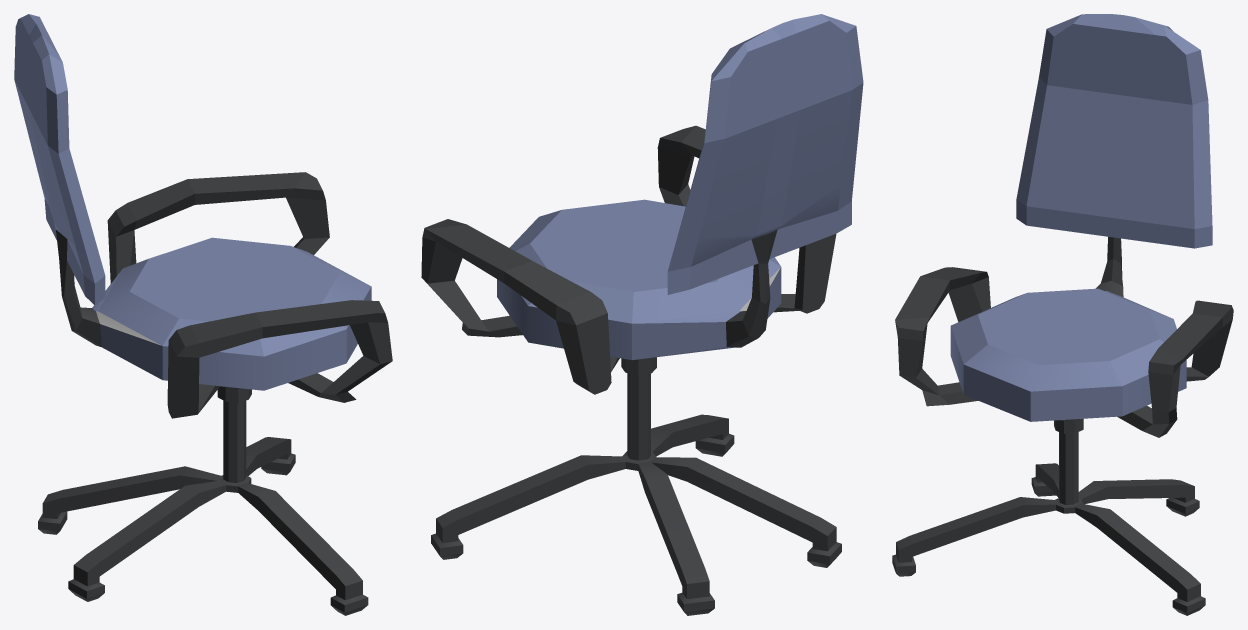
The model's file is Desk Chair.fbx.
3 renders of one model, left to right at view 1: azimuth 30°, elevation 25°; view 2: azimuth 150°, elevation 25°; view 3: azimuth 270°, elevation 25°, orthographic. The views are drawn at different scales.
Parts seen in each view (by area): view 1: OfficeChair; view 2: OfficeChair; view 3: OfficeChair.
Boxes of the visible parts, bbox=[...] form: OfficeChair: bbox=[14, 14, 392, 615]; OfficeChair: bbox=[421, 14, 863, 615]; OfficeChair: bbox=[892, 14, 1233, 615].
Size of the model in its own units: 35.45 by 53.49 by 34.73.
